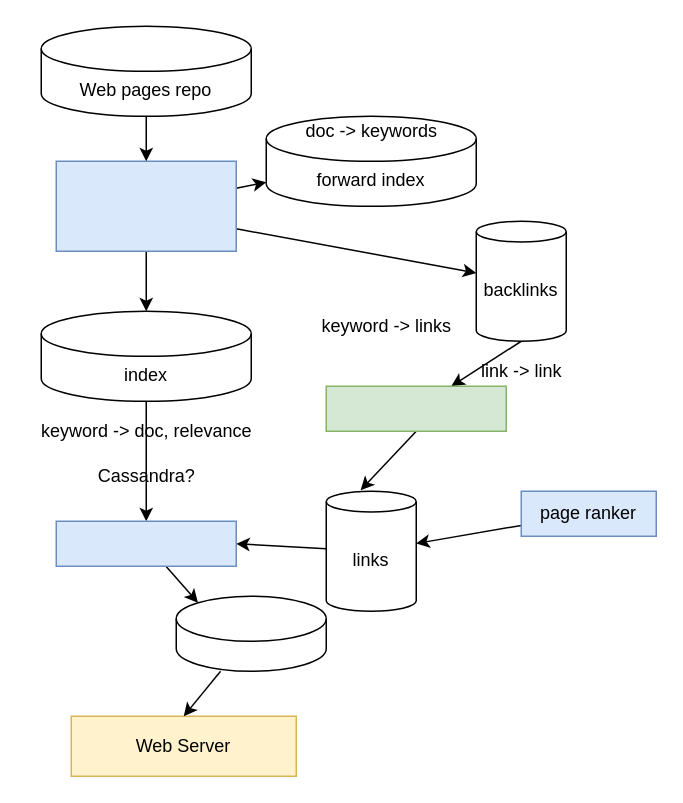
The diagram is 683 pixels wide and 803 high, and some of its shapes have lost their labels. The centre of each missing label's shape, as x and y in pixels:
"Indexer" goes at pixel 145 205.
"Inverted Links" goes at pixel 250 633.
"Scoring - Ranking" goes at pixel 145 543.
"URL normallization" goes at pixel 415 408.
